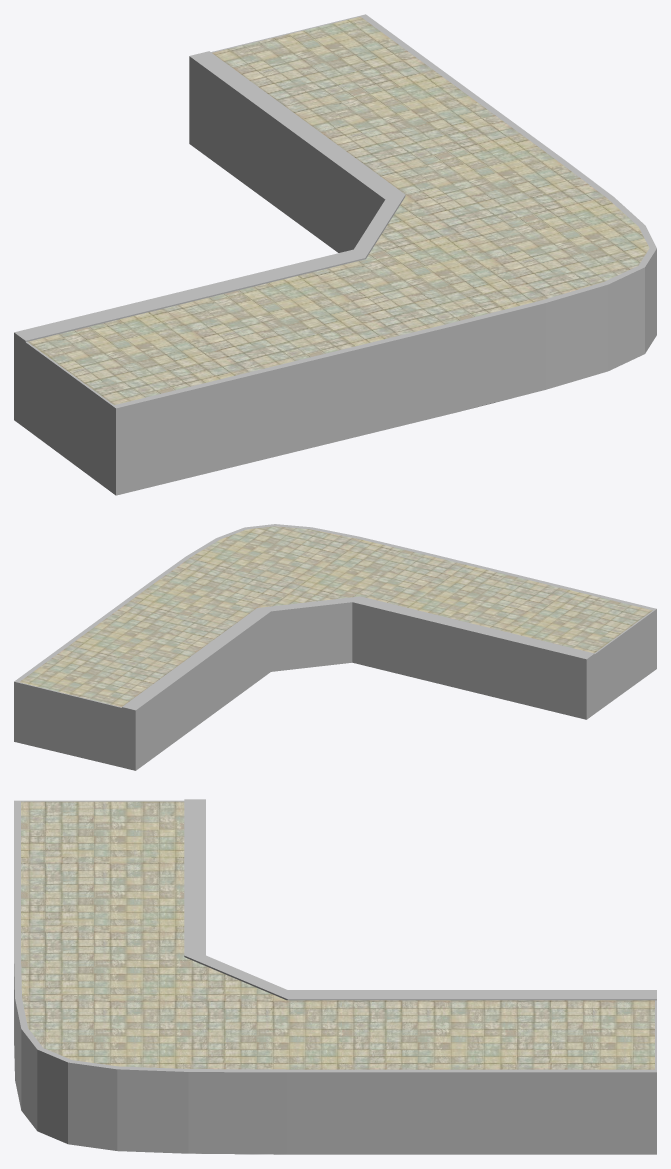
The model's file is road_w01_co03.fbx.
3 views of the same model, one above another, from view 1: azimuth 30°, elevation 25°; view 2: azimuth 150°, elevation 25°; view 3: azimuth 270°, elevation 25° (orthographic). The views are drawn at different scales.
Parts seen in each view (by area): view 1: road_w01_co03; view 2: road_w01_co03; view 3: road_w01_co03.
Boxes of the visible parts, x1=… form: road_w01_co03: x1=14, y1=14, x2=656, y2=495; road_w01_co03: x1=14, y1=524, x2=656, y2=770; road_w01_co03: x1=14, y1=799, x2=656, y2=1154.
Bounding box in the file's own units: 15.75 × 2.26 × 15.75.
